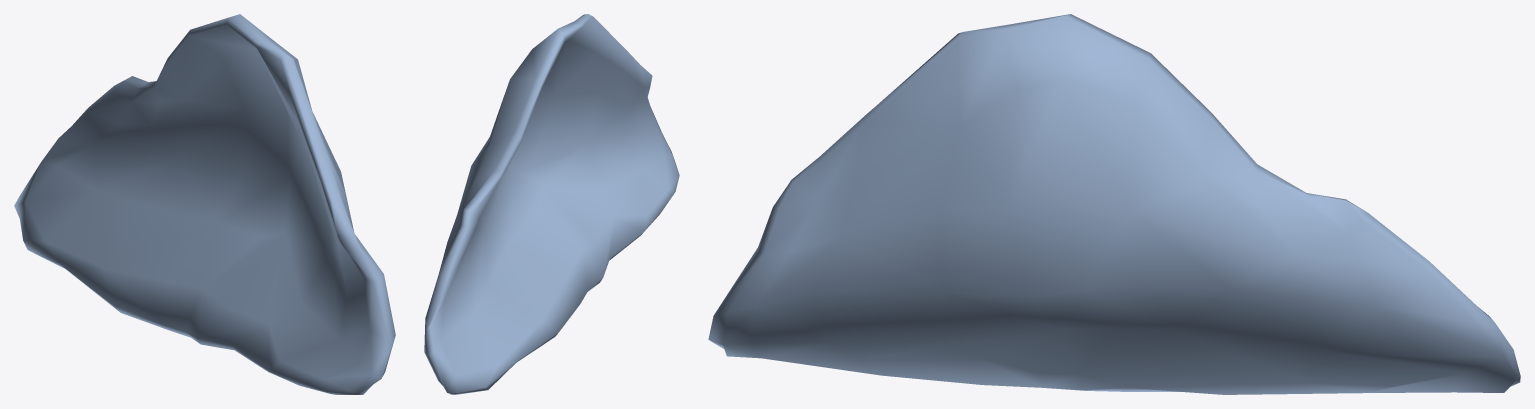
File: junRoadcover2.fbx
3 views of the same model, side by side, from view 1: azimuth 30°, elevation 25°; view 2: azimuth 150°, elevation 25°; view 3: azimuth 270°, elevation 25° (orthographic). The views are drawn at different scales.
Visible parts, largest first — view 1: cover2_LOD0; view 2: cover2_LOD0; view 3: cover2_LOD0.
Boxes of the visible parts, x1,y1,x2,y2 form: cover2_LOD0: (14, 14, 395, 394); cover2_LOD0: (424, 14, 679, 394); cover2_LOD0: (708, 14, 1520, 394).
Bounding box in the file's own units: 342 × 782 × 1396.
